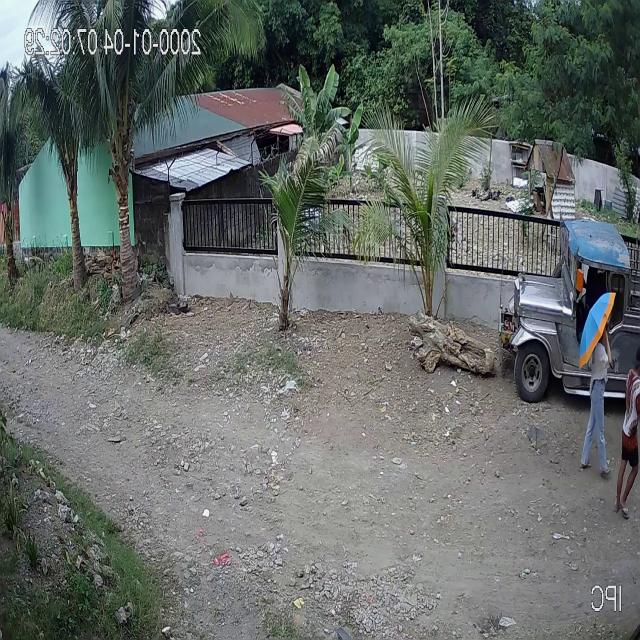walking: (577, 286, 617, 482), (613, 343, 640, 526)
